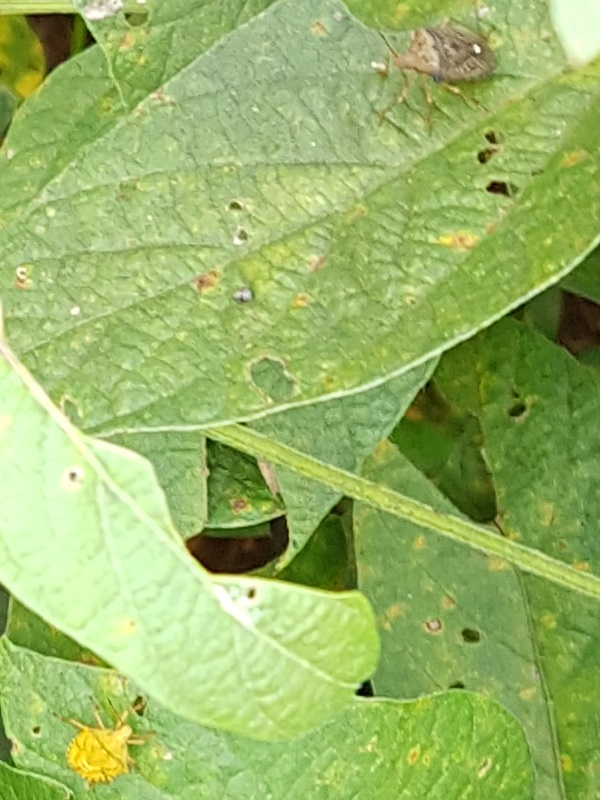Euschistus_heros_adulto: (358, 1, 527, 131)
Euschistus_heros_ninfa: (42, 690, 161, 800)
